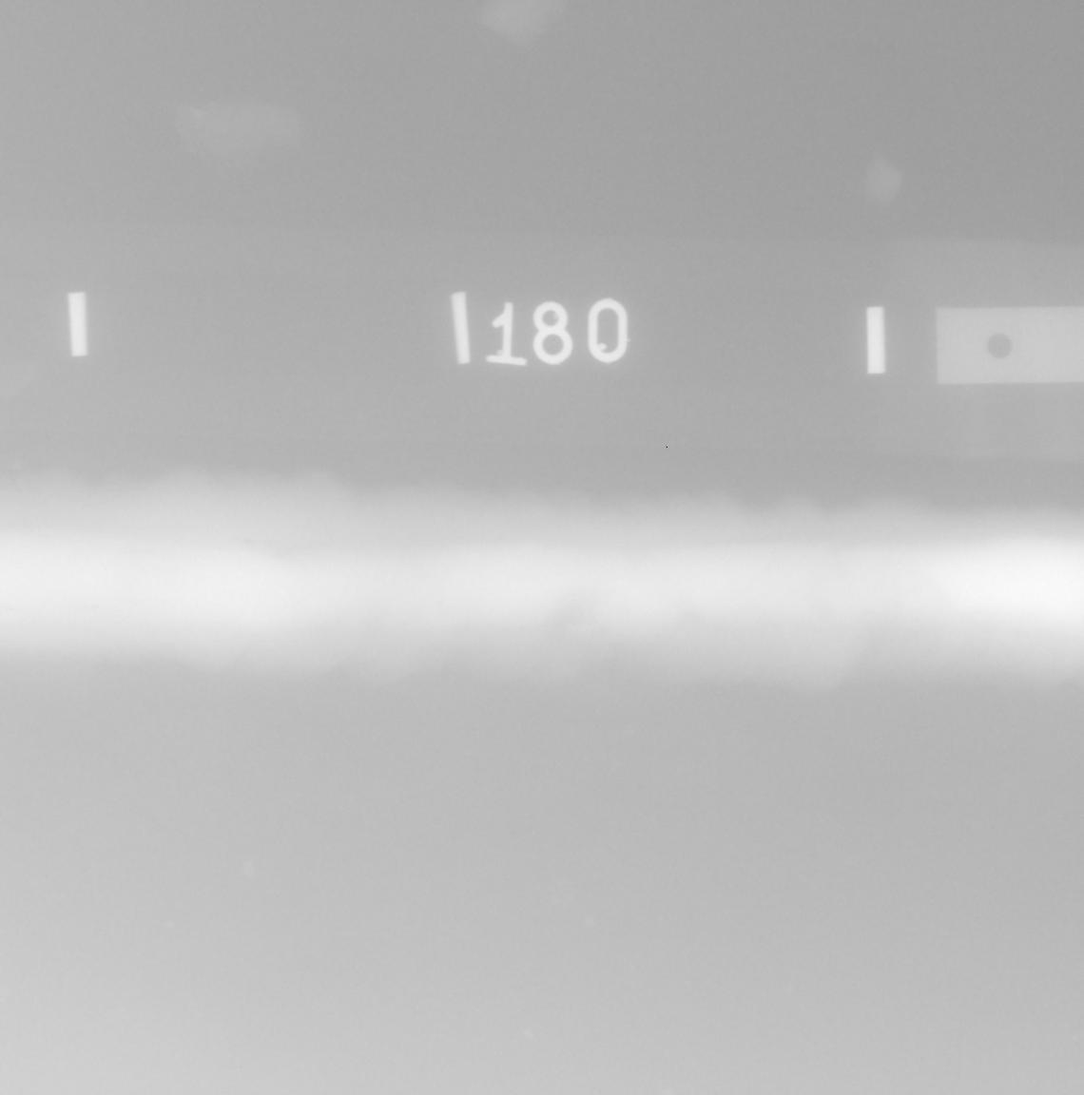Inclusion: (238, 538, 269, 546), (119, 552, 147, 555), (3, 608, 12, 611), (438, 601, 443, 605)
